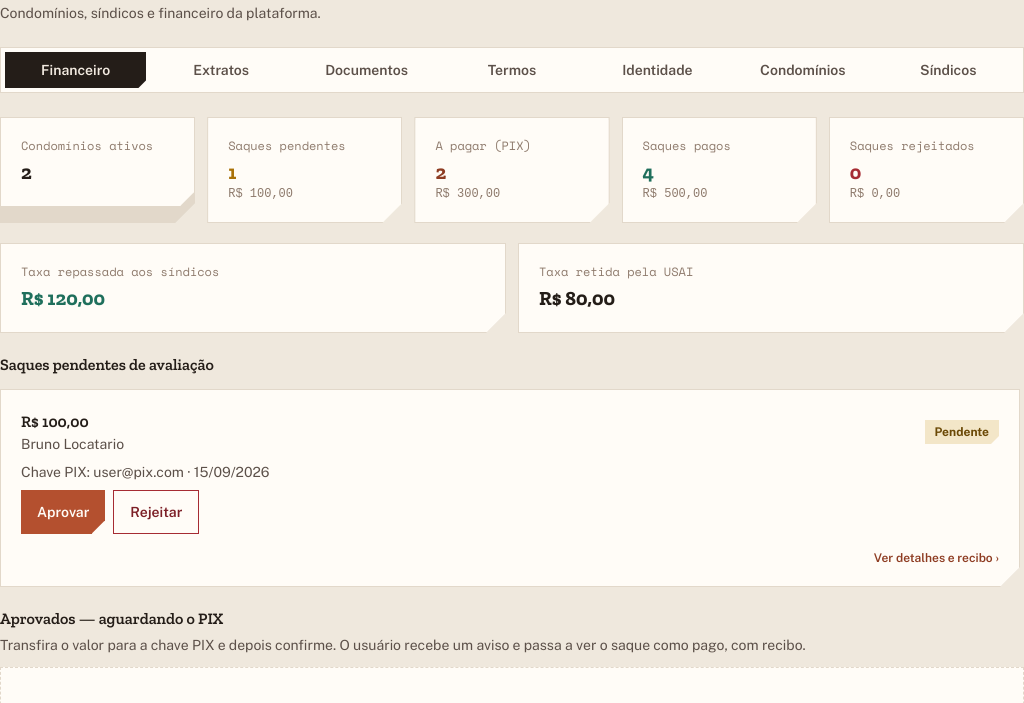
Test: AdminPage — aba Financeiro › rejeita um saque pendente informando o motivo
Expected: the text "user@pix.com" is shown, [93,464,184,480]
Click the button "Rejeitar" at (156, 512), box [113,490,199,534]
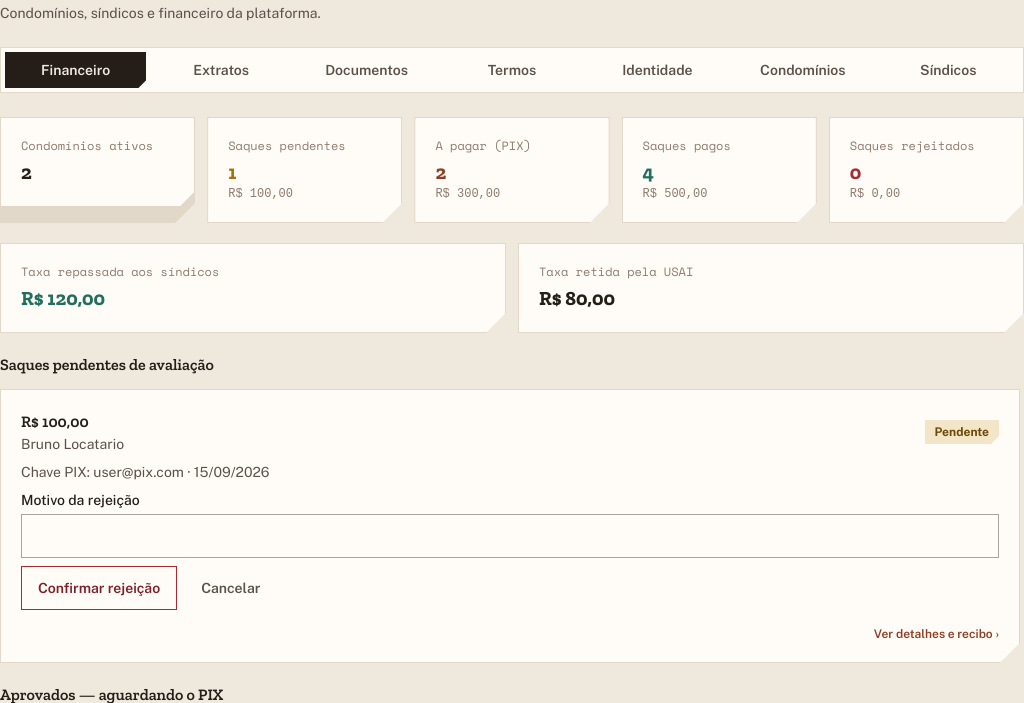
Type "Chave inválida" into the field labelled "Motivo da rejeição" at (510, 536), box [21,514,999,558]
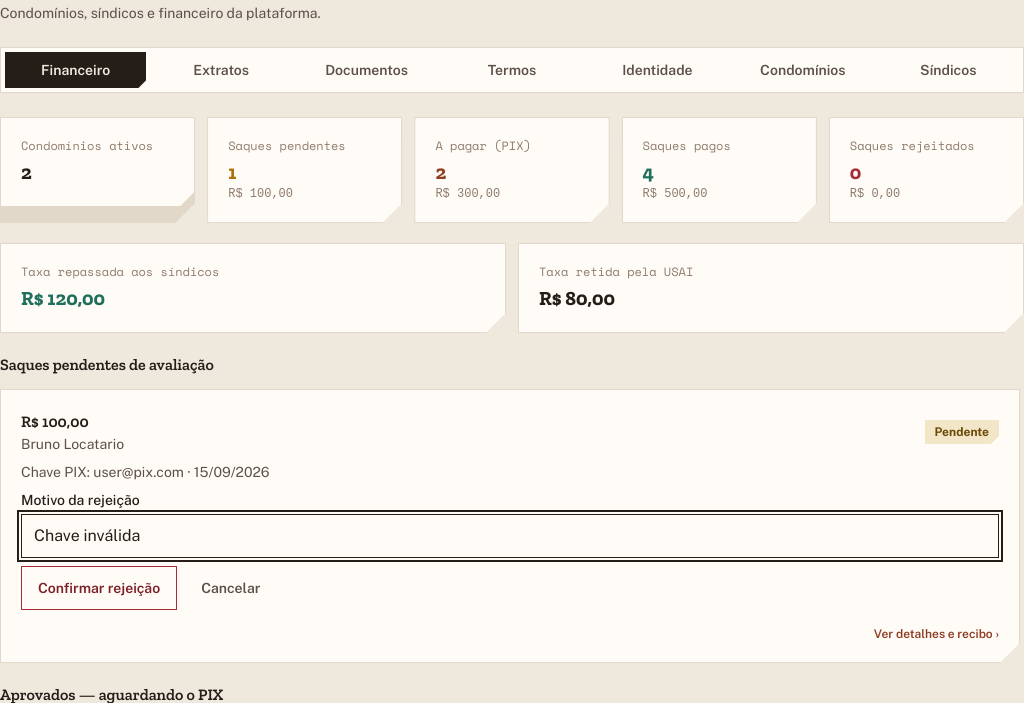
Click the button "Confirmar rejeição" at (99, 588), box [21,566,177,610]
(page scrolled)
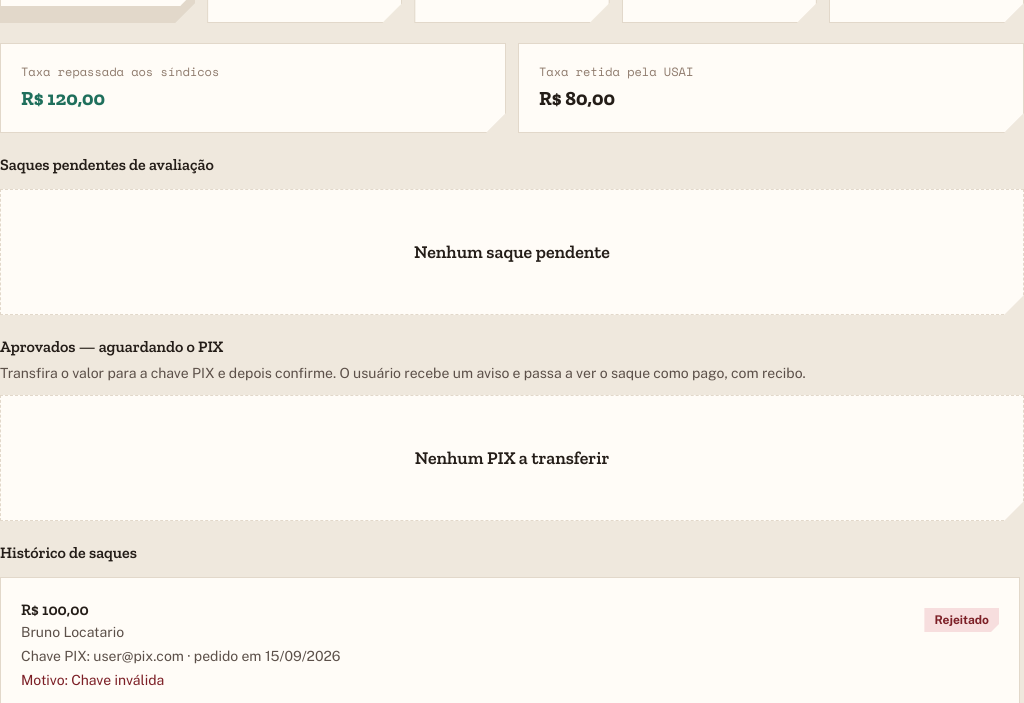
Now the text "Nenhum saque pendente" is shown, box [414,238,610,266]
Now the text "Motivo: Chave inválida" is shown, box [21,672,164,688]
